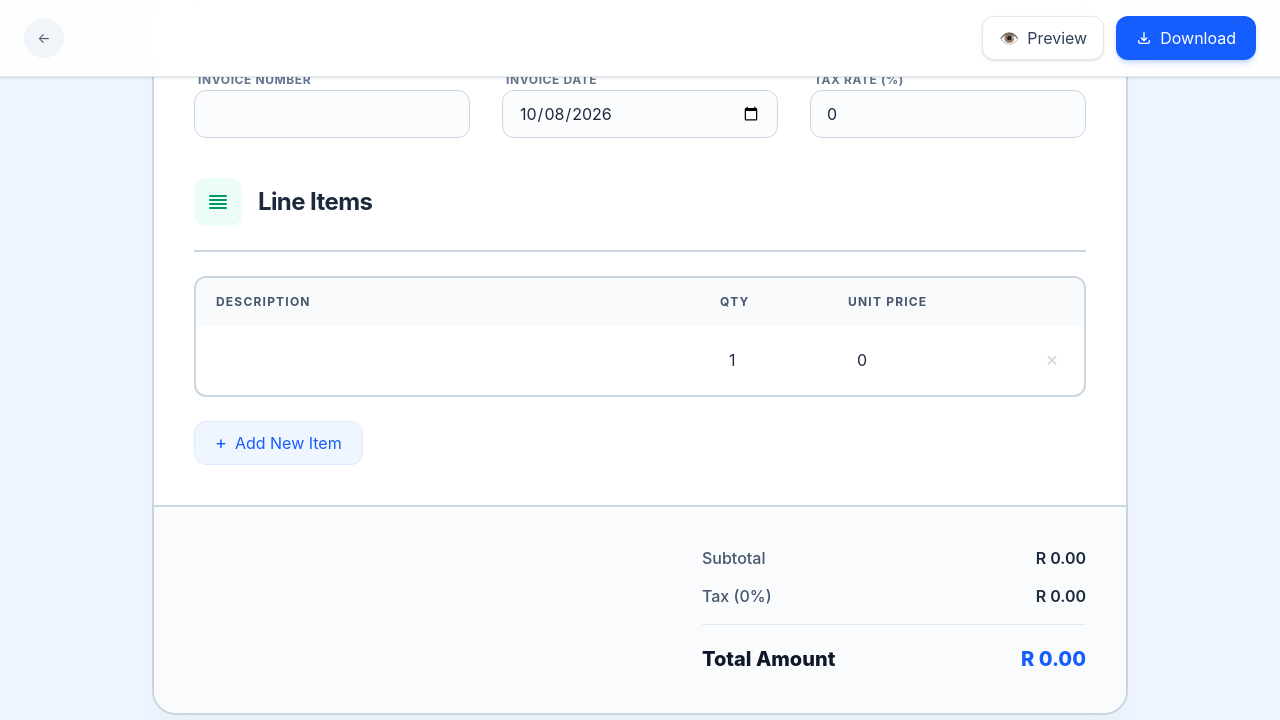
Test: InvoiceBuilder dataflow › Line-item input parsing › clearing quantity stores 0
(page scrolled)
Replace the text in the 2nd number field with "9". click: point(764, 360)
box: [712,338,816,382]
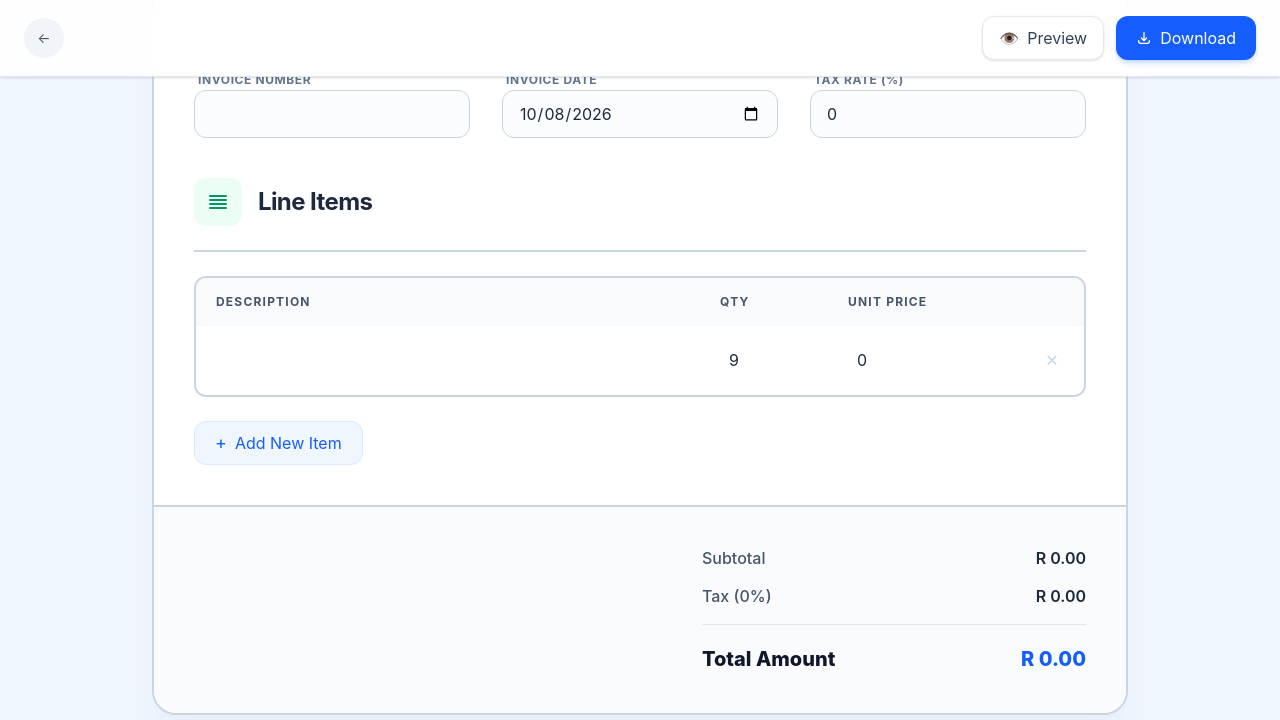
Clear the 2nd number field. click: point(764, 360)
box: [712,338,816,382]
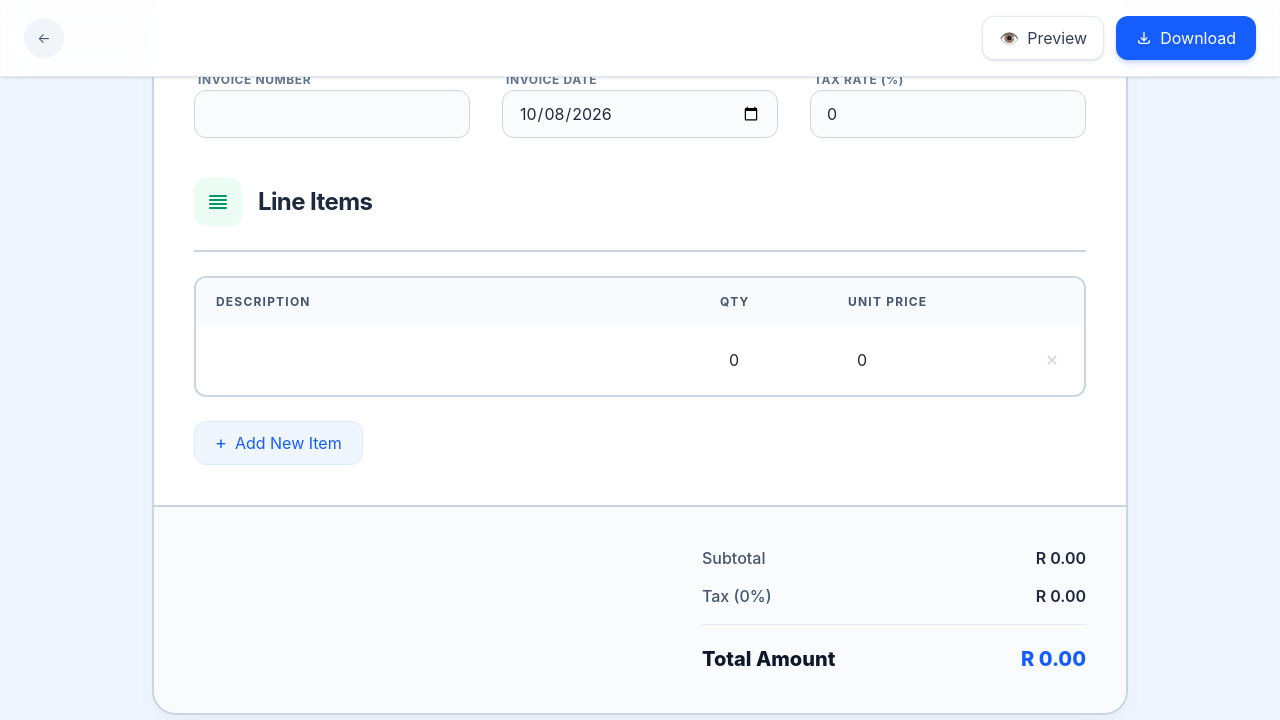
Check: the 2nd number field holds "0", box [712,338,816,382]
